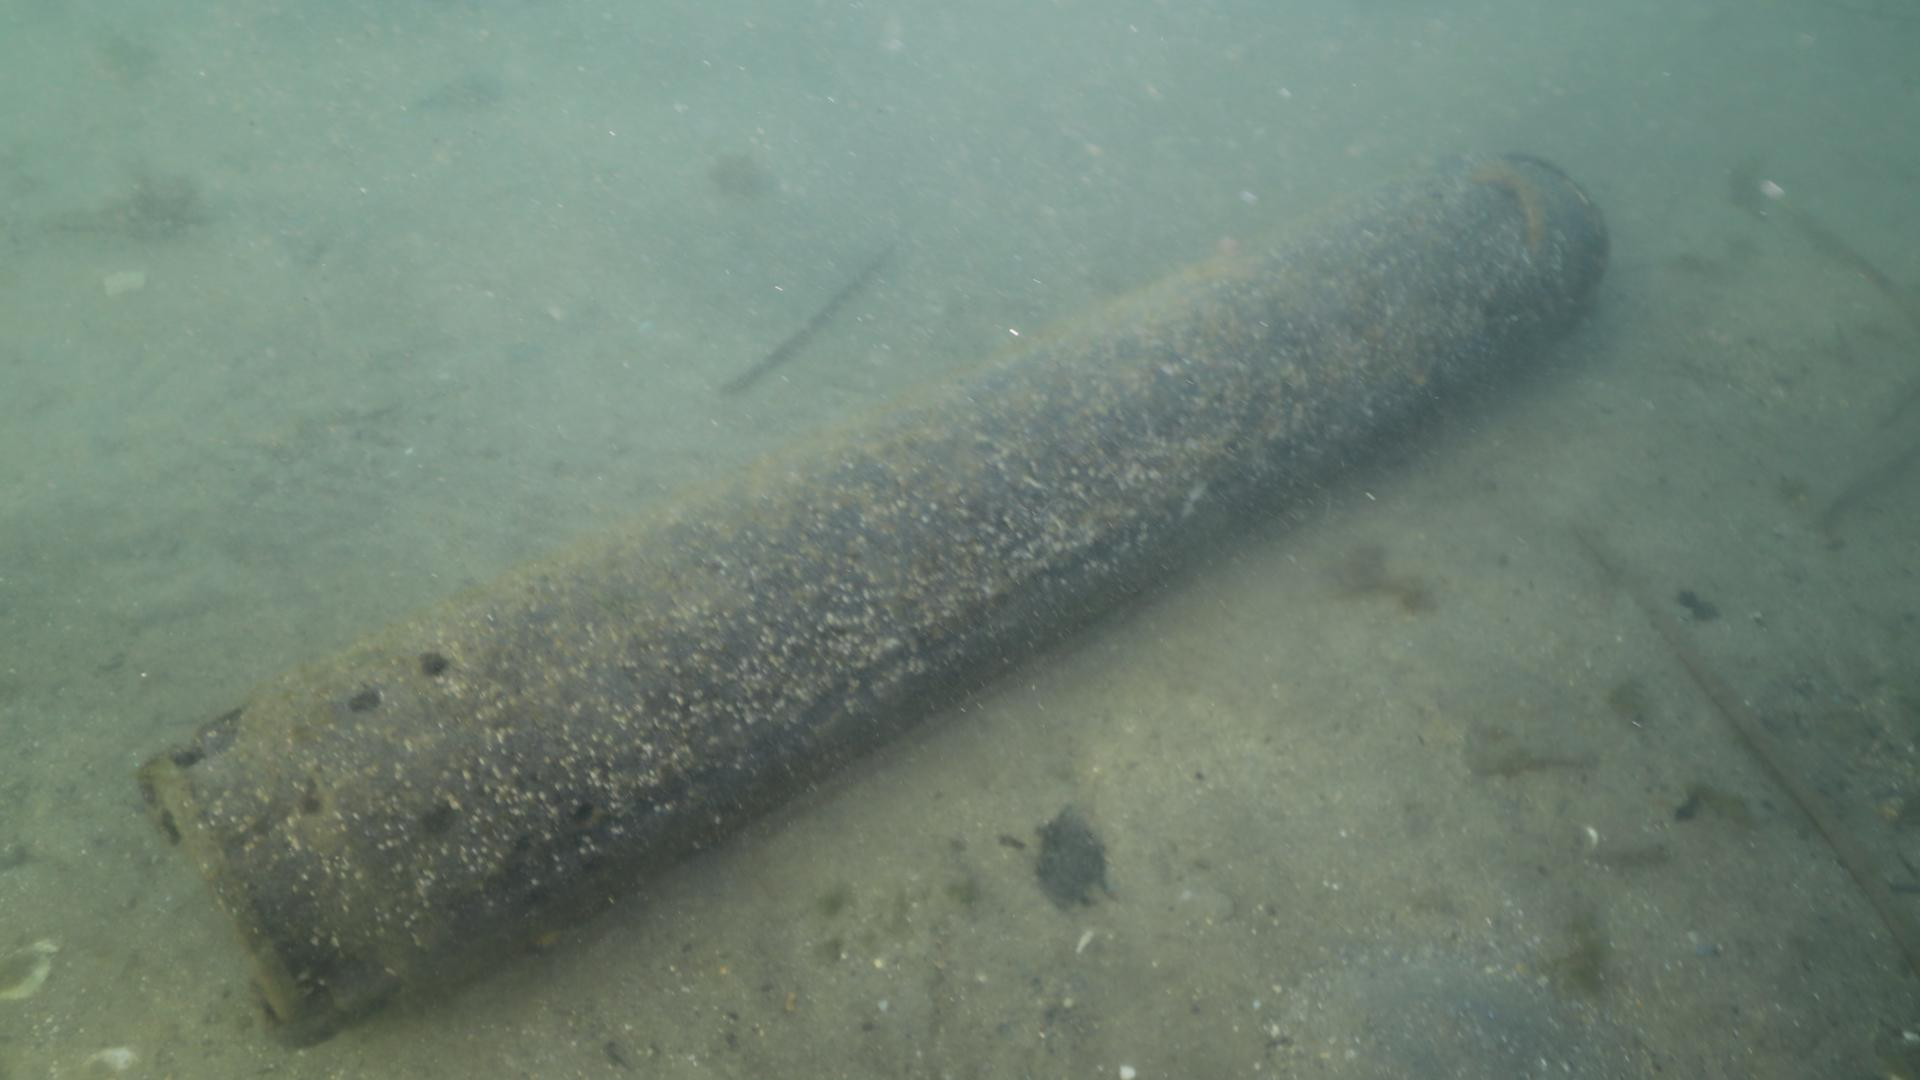eel fish trap: (127, 145, 1611, 1064)
